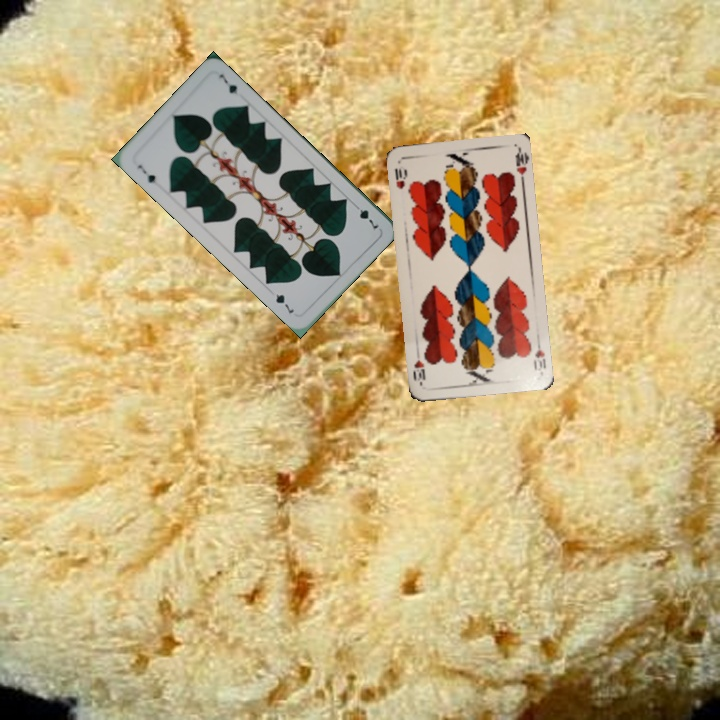G7: (349, 199, 381, 231), (133, 161, 158, 186)
H10: (530, 335, 549, 375), (391, 164, 409, 191)
